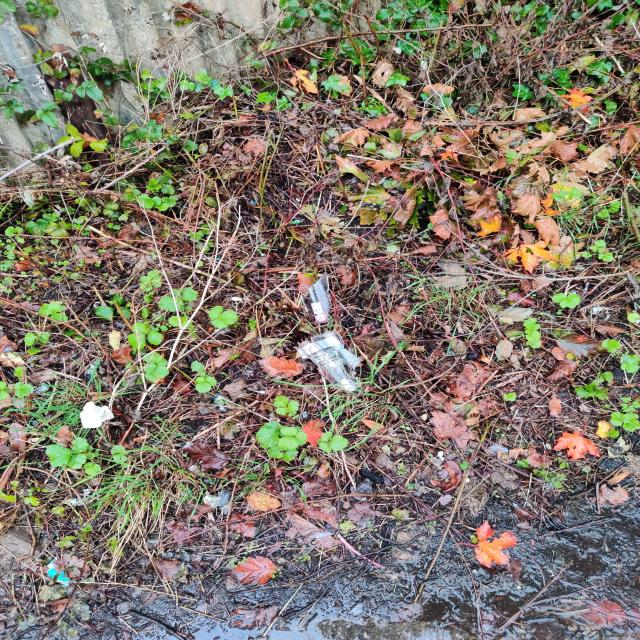litter: (293, 272, 363, 390)
